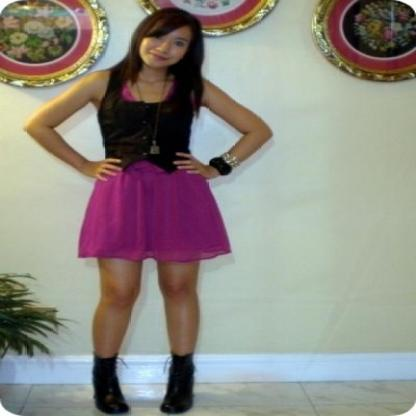jacket: (97, 68, 205, 173)
shoe: (92, 353, 194, 415)
skirt: (78, 162, 230, 264)
